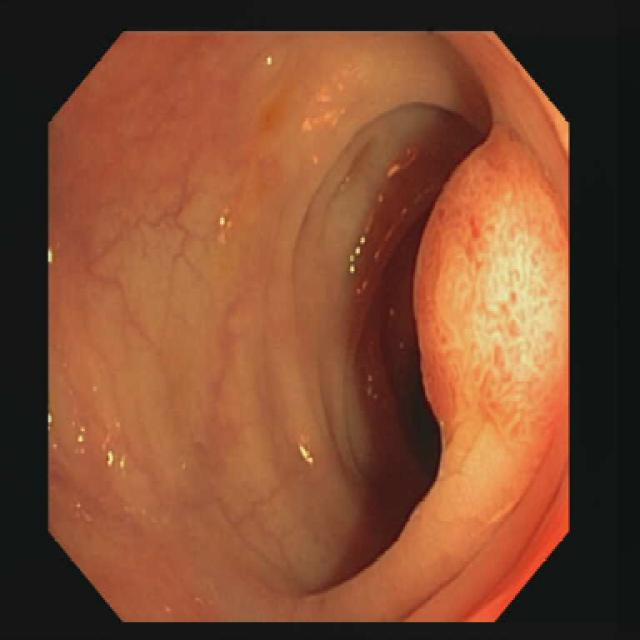tumor: (417, 144, 567, 449)
